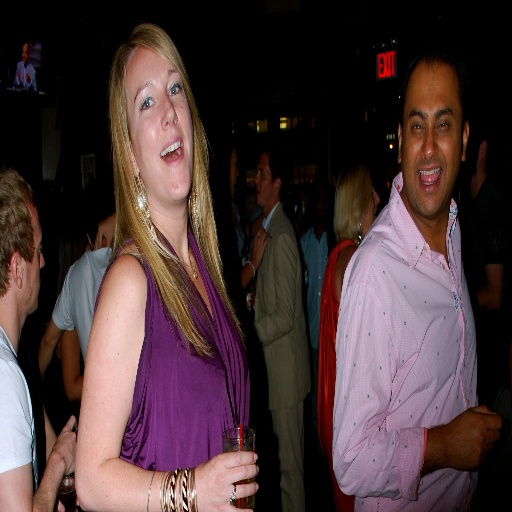hand: (422, 398, 506, 478), (195, 449, 259, 511), (51, 414, 76, 476), (92, 215, 115, 250), (252, 227, 272, 267)
